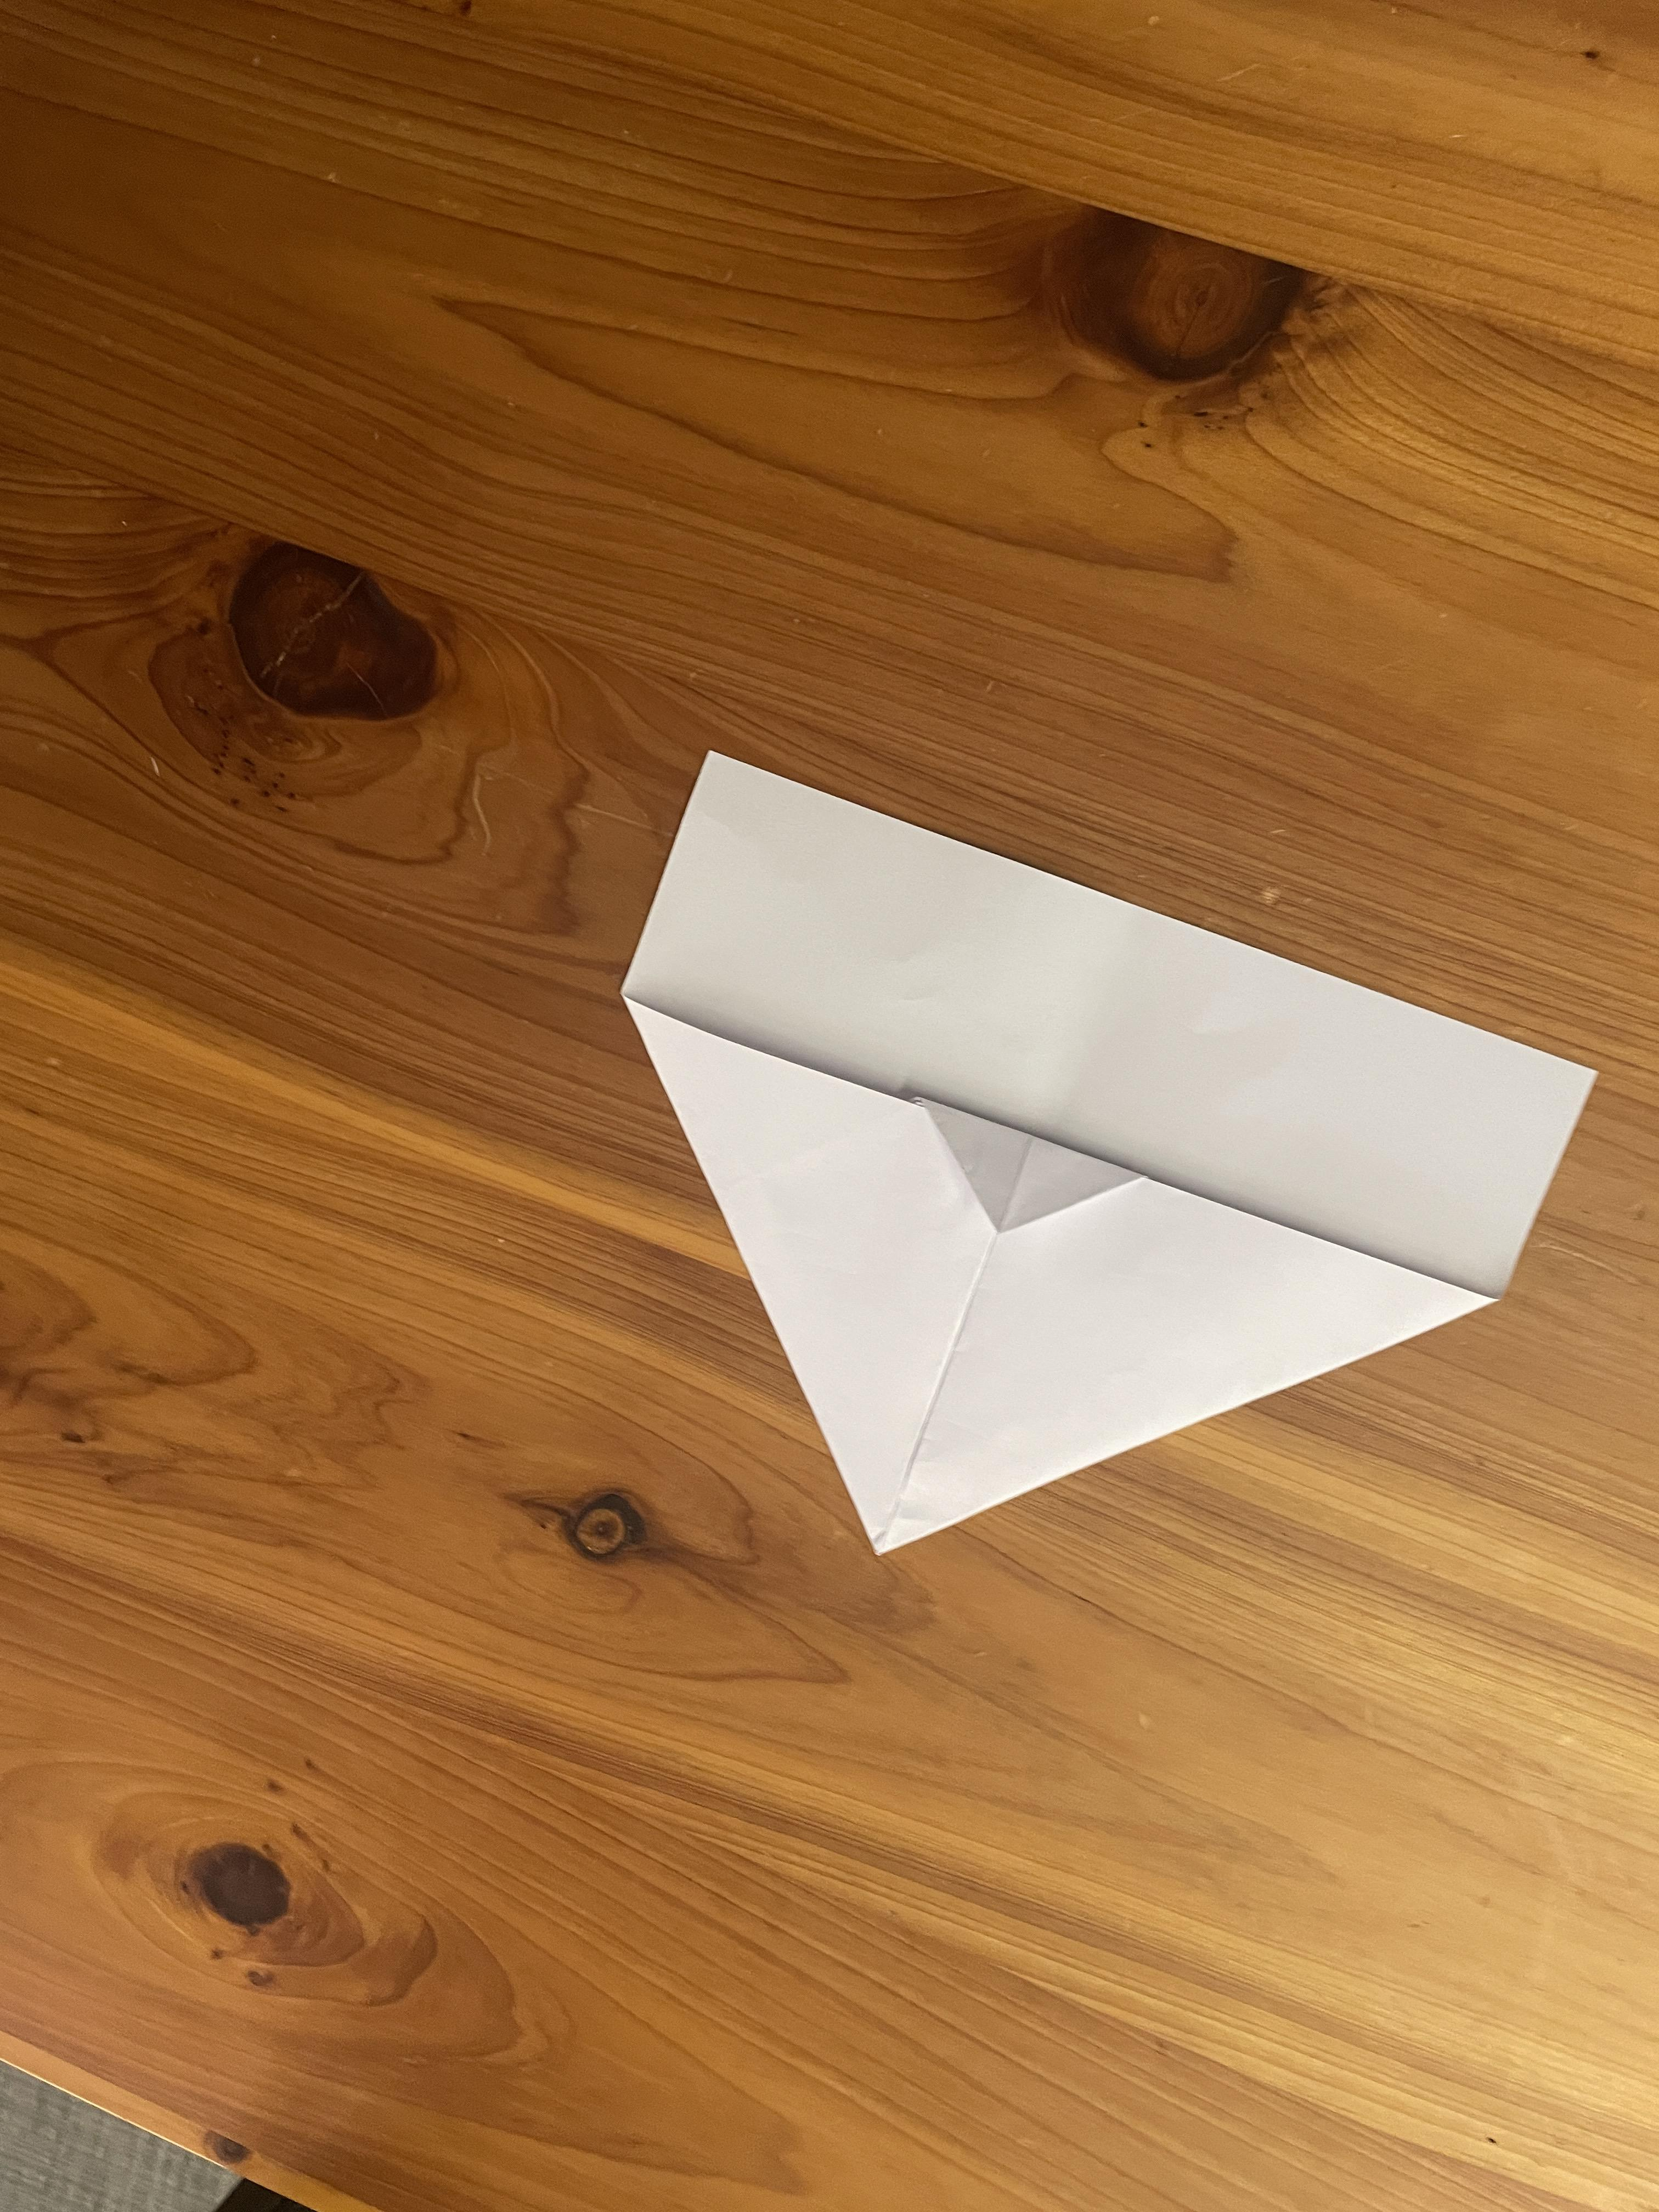shape_2: (516, 681, 1659, 1688)
